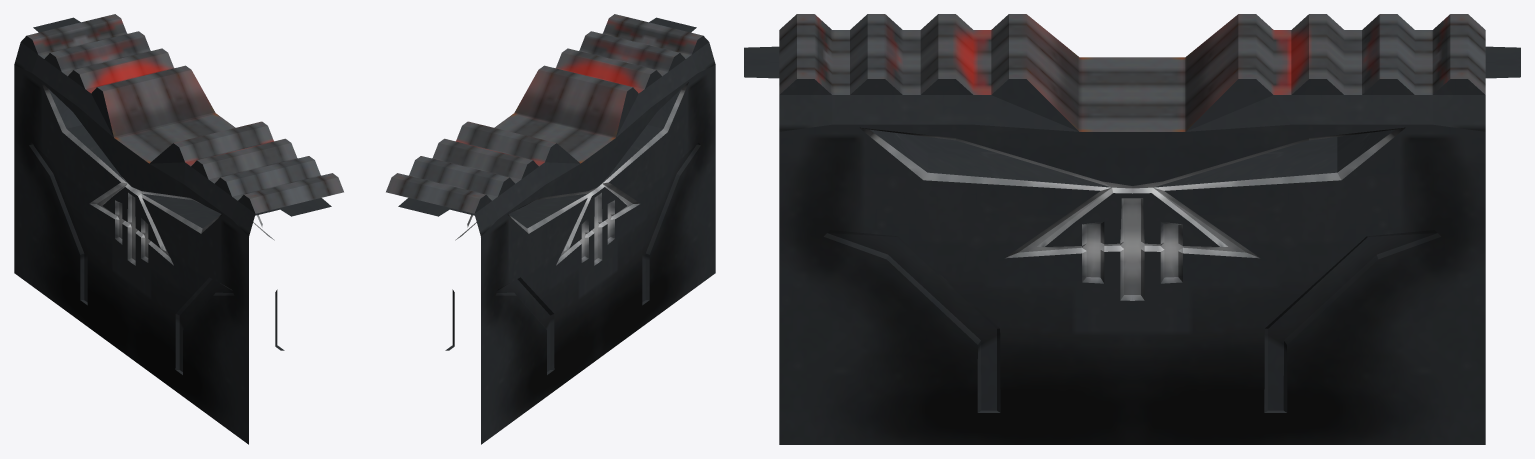
File: grave_power_door_bottom.glb
3 renders of one model, left to right at view 1: azimuth 30°, elevation 25°; view 2: azimuth 150°, elevation 25°; view 3: azimuth 270°, elevation 25°, orthographic. The views are drawn at different scales.
Parts seen in each view (by area): view 1: 00_fac_powered_door_3x1_bottom-col.001; view 2: 00_fac_powered_door_3x1_bottom-col.001; view 3: 00_fac_powered_door_3x1_bottom-col.001.
Boxes of the visible parts, bbox=[...] form: 00_fac_powered_door_3x1_bottom-col.001: bbox=[14, 14, 343, 444]; 00_fac_powered_door_3x1_bottom-col.001: bbox=[386, 14, 715, 444]; 00_fac_powered_door_3x1_bottom-col.001: bbox=[744, 14, 1520, 444].
Size of the model in its own units: 1 by 2.26 by 4.4.
2 materials, 2 textured.
